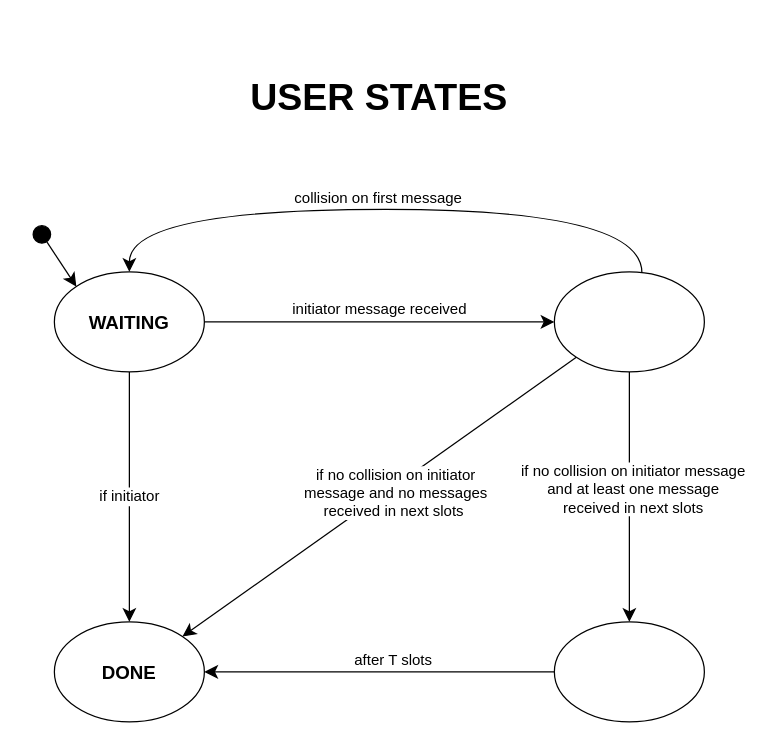
The diagram is 766 pixels wide and 744 high, and some of its shapes have lost their labels. The box of each missing label's shape, as (x1, y1, x2, y2) in pixels:
LISTENING: (553, 621, 704, 722)
SCHEDULING: (553, 271, 704, 372)
